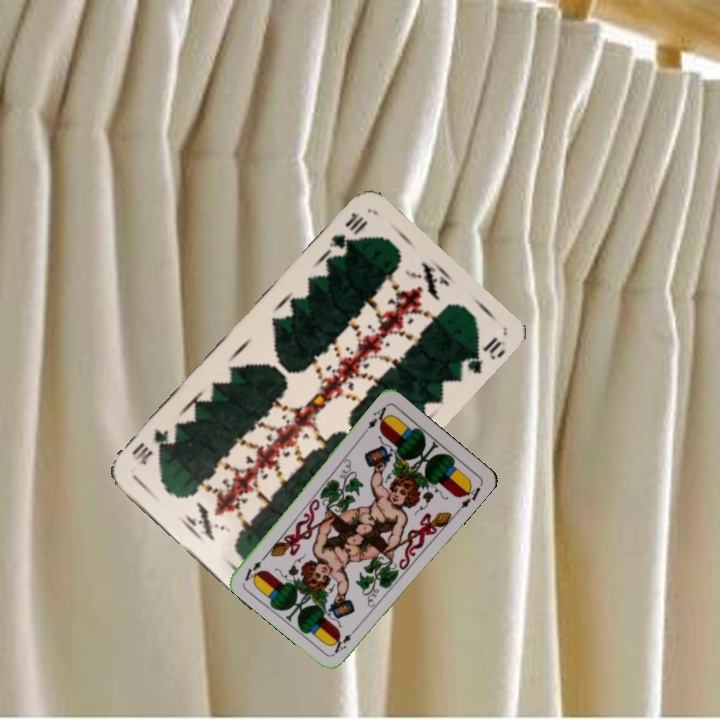EA: (360, 401, 392, 436), (330, 623, 361, 656)
G10: (323, 207, 371, 256)
